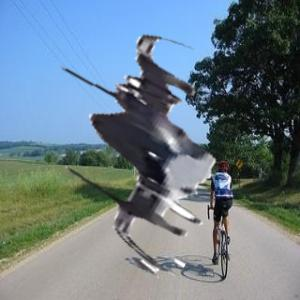drone: (14, 18, 245, 249)
